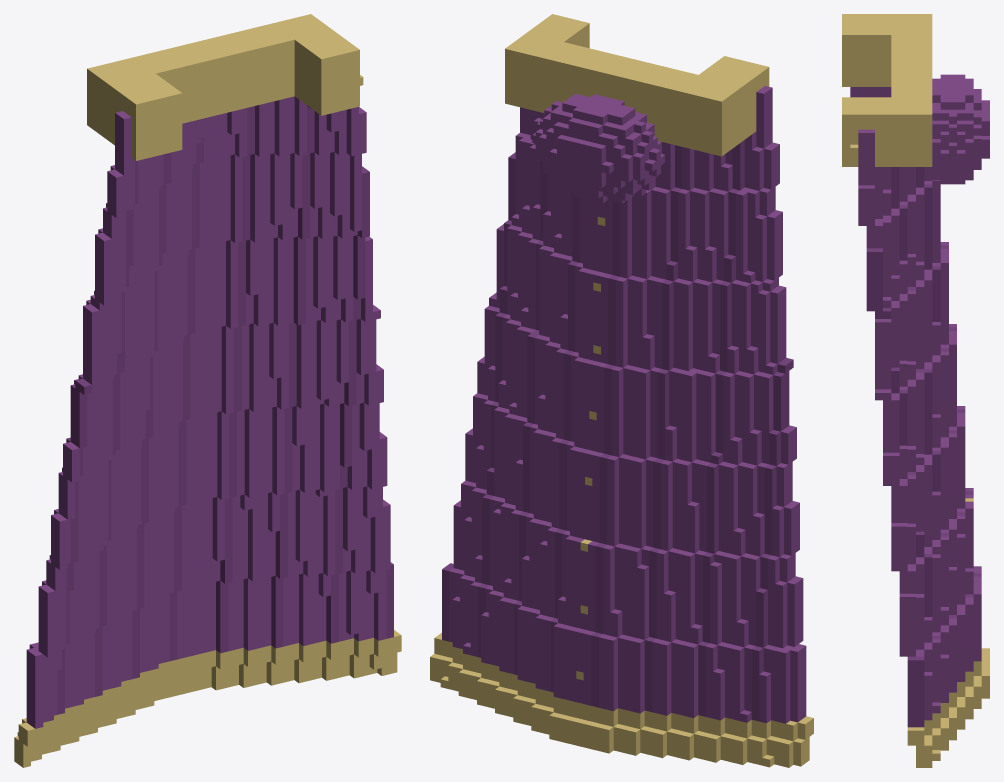
Rendered from cloth_epic_cloak.glb.
The picture shows the model from 3 angles, left to right: view 1: azimuth 30°, elevation 25°; view 2: azimuth 150°, elevation 25°; view 3: azimuth 270°, elevation 25°; orthographic projection. The views are drawn at different scales.
Visible parts, largest first — view 1: cloth_epic_cloak; view 2: cloth_epic_cloak; view 3: cloth_epic_cloak.
Boxes of the visible parts, box(x1,y1,x2,y2) form: cloth_epic_cloak: box(14, 14, 401, 767); cloth_epic_cloak: box(430, 14, 813, 767); cloth_epic_cloak: box(842, 14, 989, 767).
Size of the model in its own units: 0.588 by 0.996 by 0.216.
